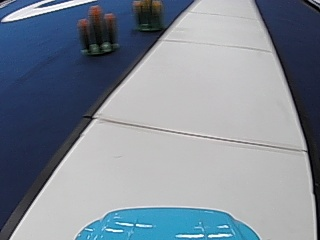corn: (78, 5, 119, 56)
